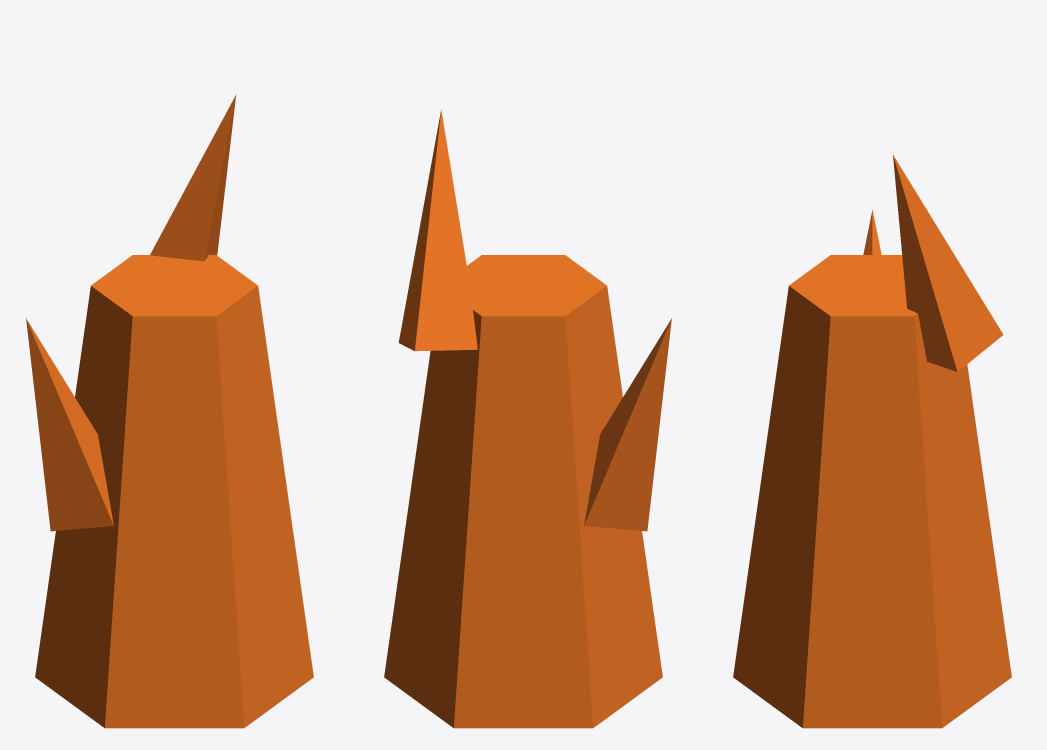
The model's file is PR_JetFlame.fbx.
3 views of the same model, side by side, from view 1: azimuth 30°, elevation 25°; view 2: azimuth 150°, elevation 25°; view 3: azimuth 270°, elevation 25° (orthographic).
Parts seen in each view (by area): view 1: PR_JetFlame; view 2: PR_JetFlame; view 3: PR_JetFlame.
Boxes of the visible parts, x1,y1,x2,y2 form: PR_JetFlame: [26, 94, 313, 728]; PR_JetFlame: [384, 110, 671, 728]; PR_JetFlame: [733, 155, 1011, 728].
Size of the model in its own units: 1.56 by 1.61 by 3.67.
